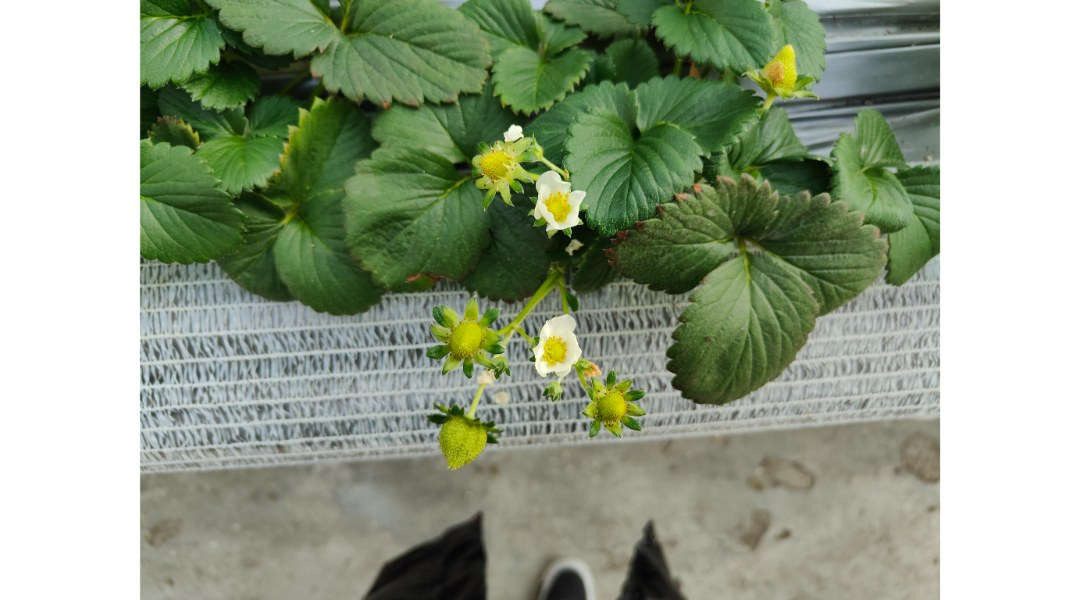berry: (412, 290, 501, 376), (427, 389, 503, 489), (459, 127, 543, 203), (747, 37, 819, 106), (582, 373, 649, 443)
flower: (530, 168, 591, 247), (530, 312, 584, 376)
strain: (469, 384, 484, 418), (560, 289, 574, 318)
